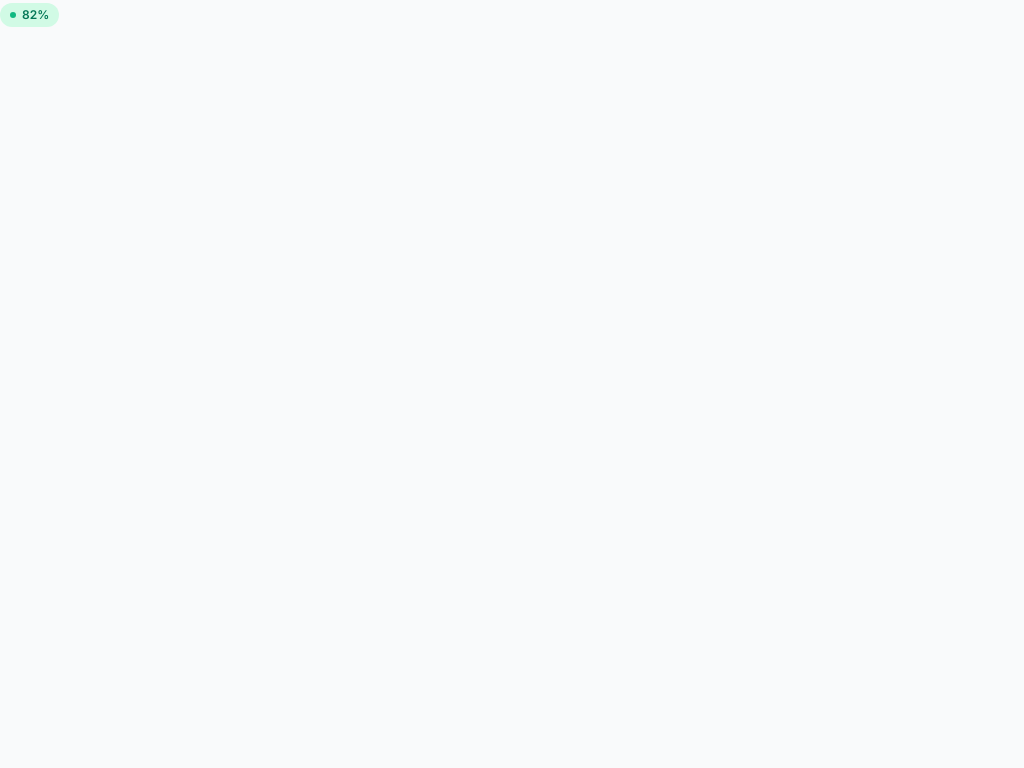
Test: HealthBadge › opens the popover with per-metric breakdown on click
This screenshot has width=1024, height=768.
Step 1. Click the button with test id "prog-health" → (30, 15), box x1=0 y1=3 x2=59 y2=27
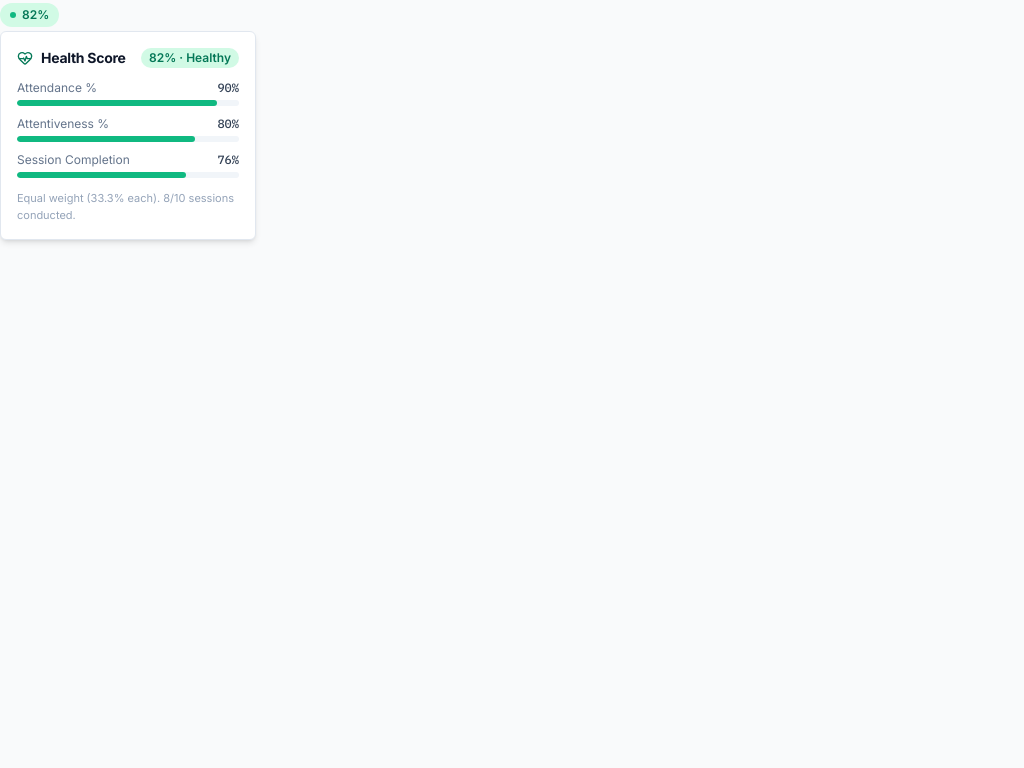
Now the text "Health Score" is shown, box x1=41 y1=48 x2=126 y2=68
Now the text "Attendance %" is shown, box x1=17 y1=80 x2=97 y2=96
